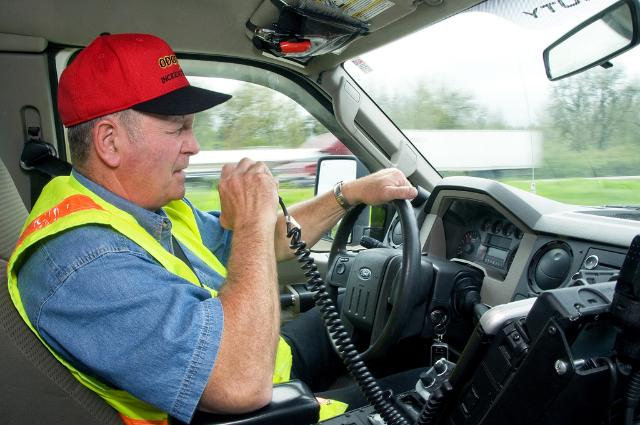Seatbelt: (30, 154, 74, 212)
